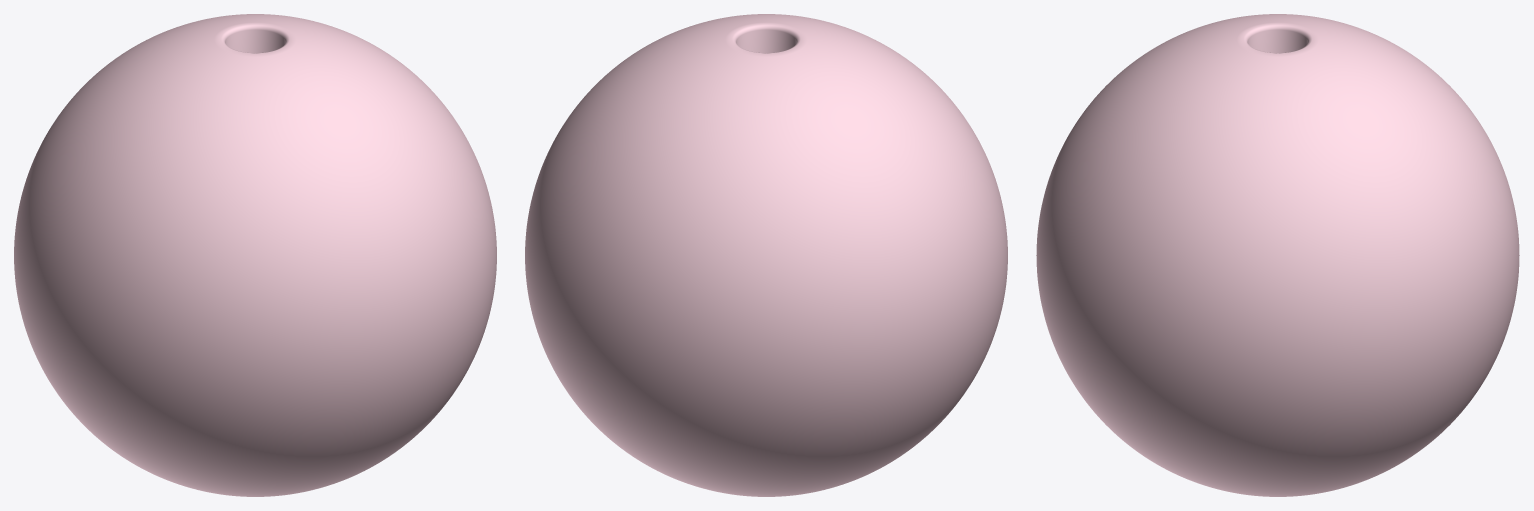
Rendered from rose-quartz-clear-8mm.glb.
3 views of the same model, side by side, from view 1: azimuth 30°, elevation 25°; view 2: azimuth 150°, elevation 25°; view 3: azimuth 270°, elevation 25° (orthographic).
Parts seen in each view (by area): view 1: 高透粉晶; view 2: 高透粉晶; view 3: 高透粉晶.
Boxes of the visible parts, x1,y1,x2,y2 form: 高透粉晶: (14, 14, 496, 496); 高透粉晶: (525, 14, 1007, 496); 高透粉晶: (1036, 14, 1519, 496).
Size of the model in its own units: 0.008 by 0.00792 by 0.008.
